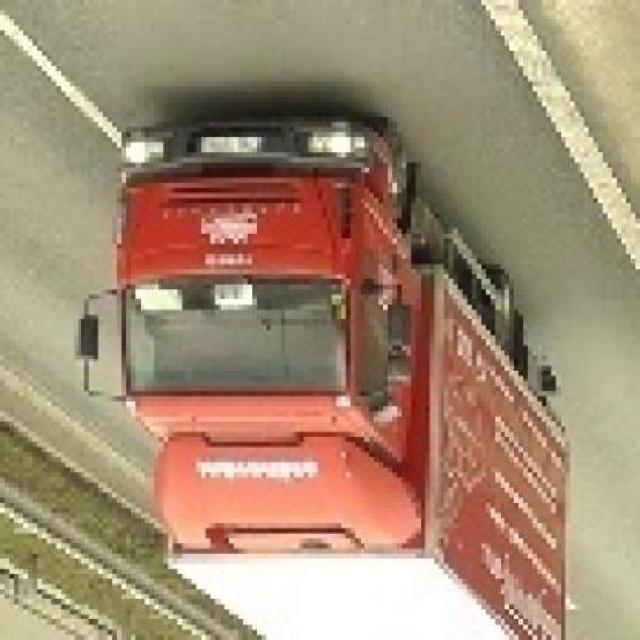truck: (76, 118, 562, 640)
